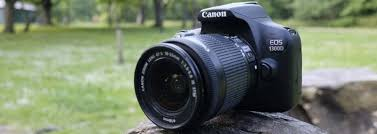camera: (135, 5, 301, 125)
